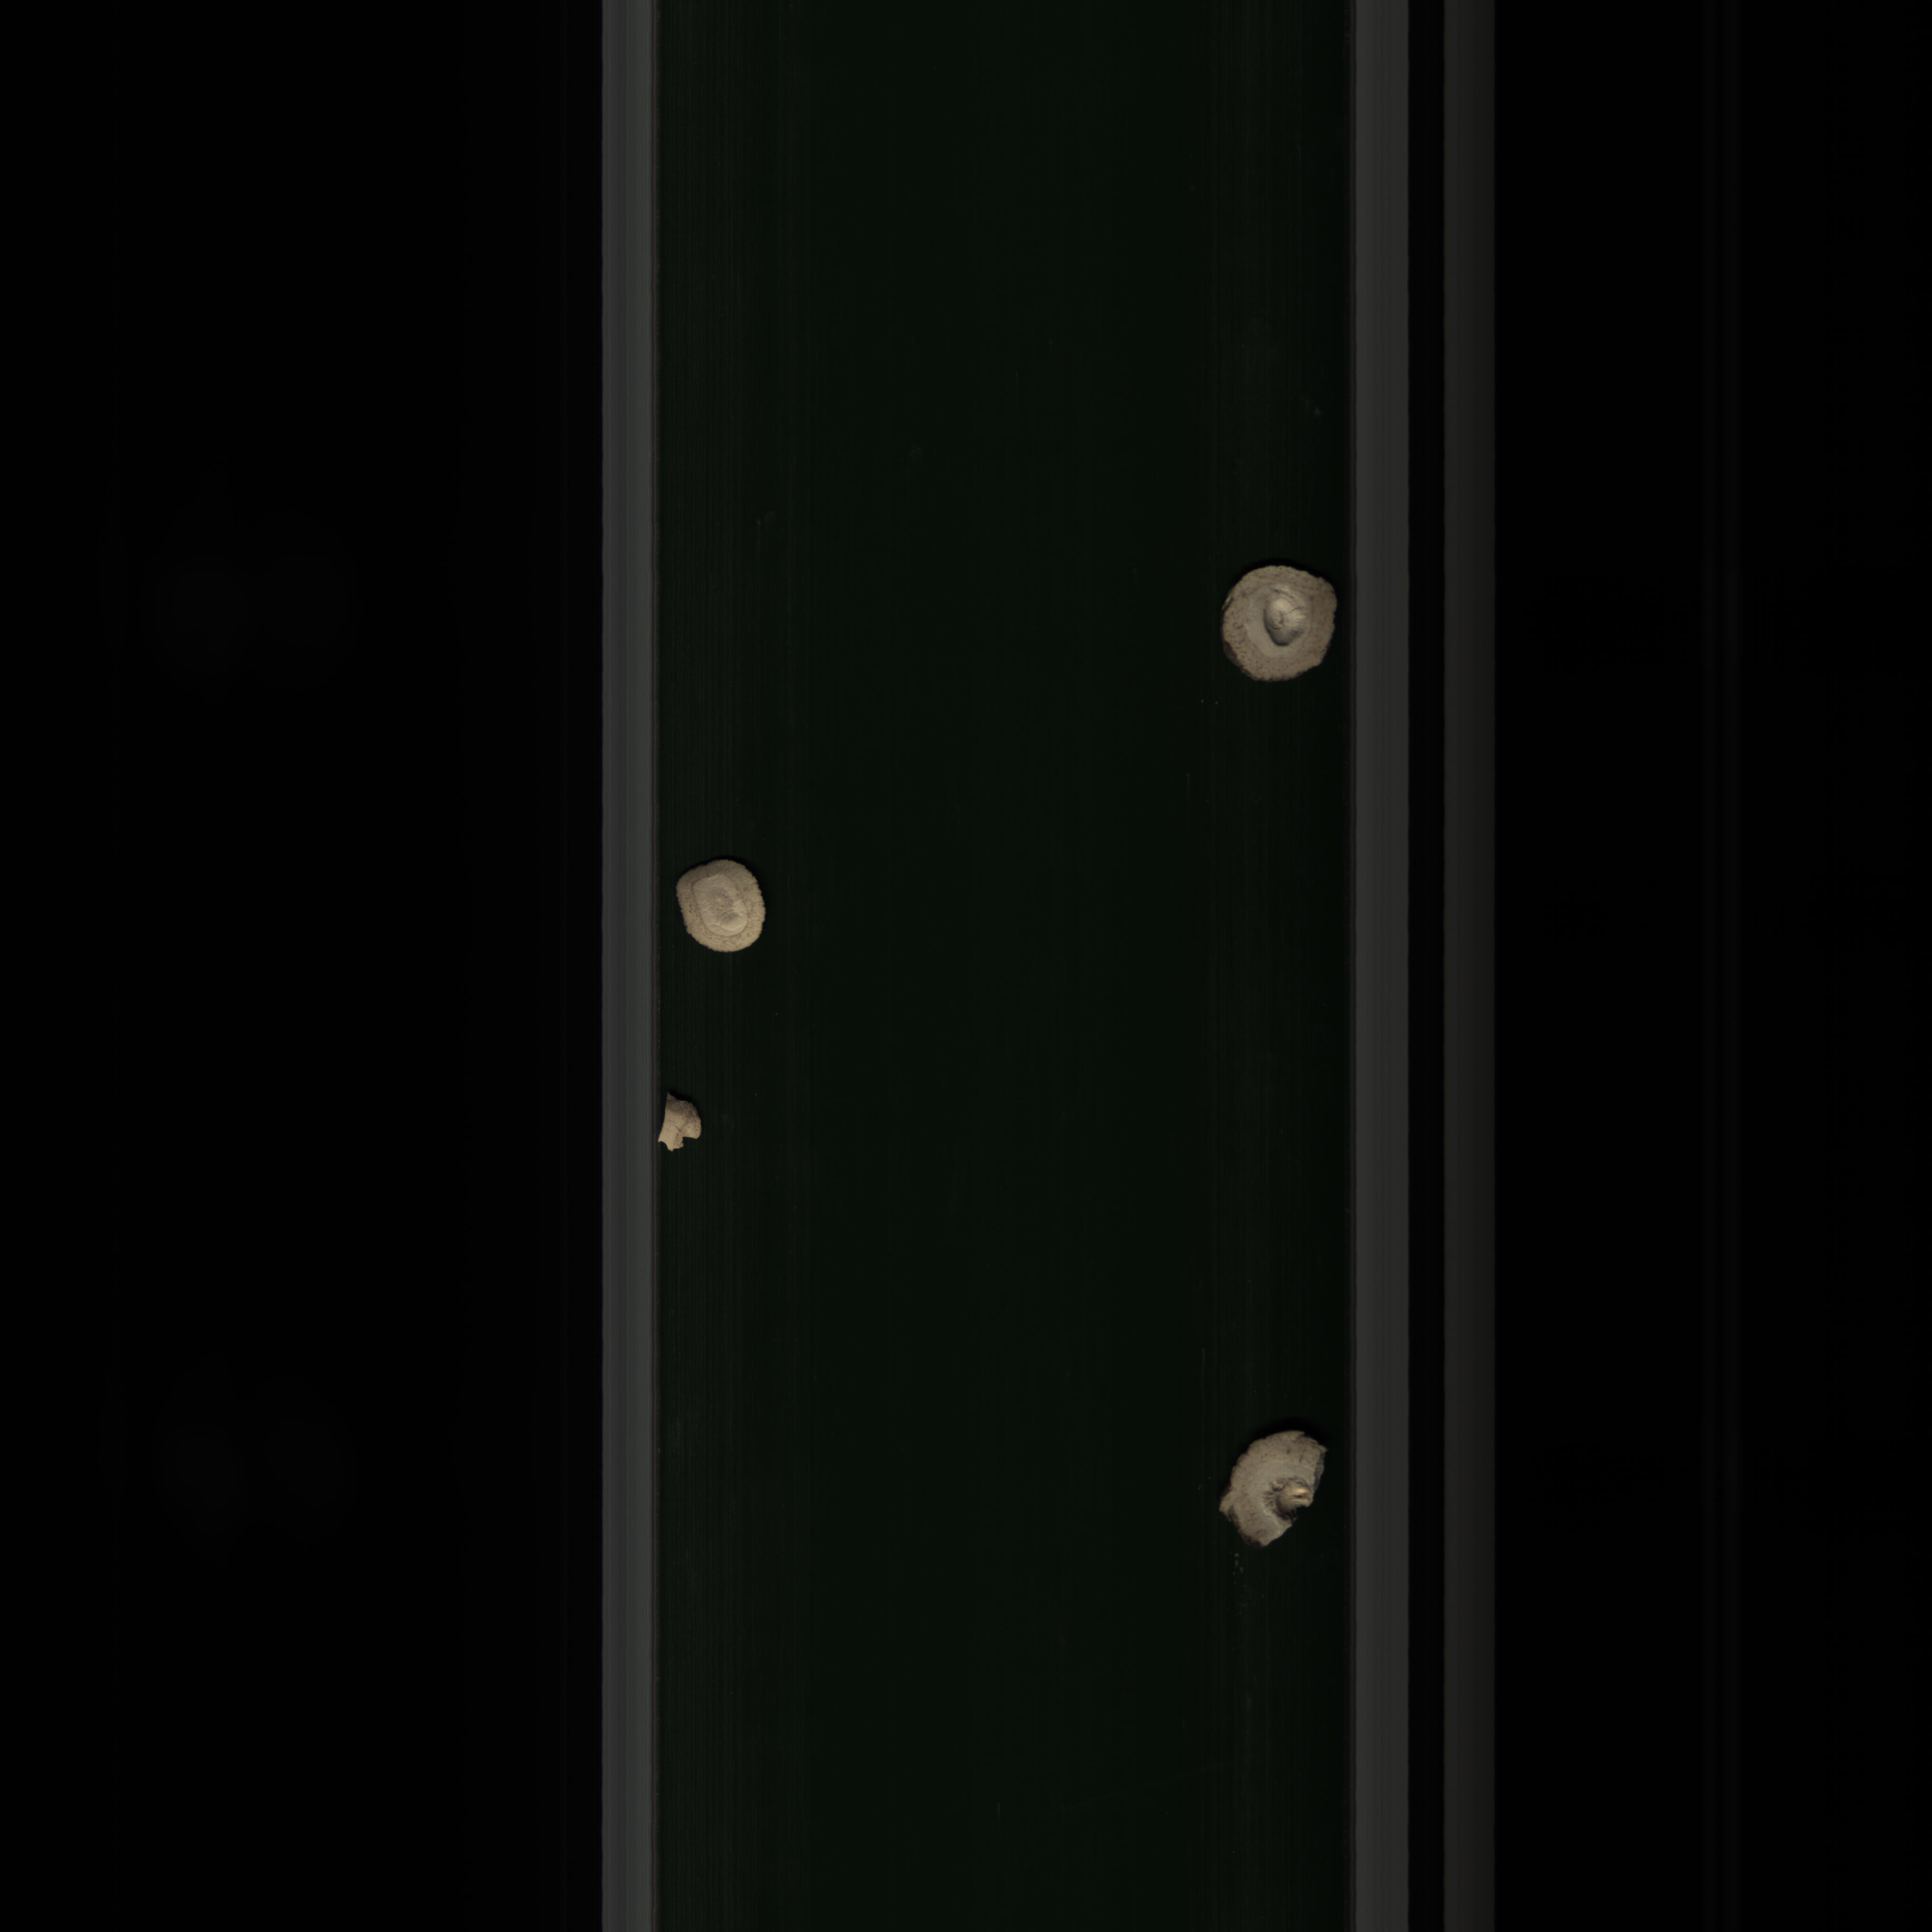bark: (648, 1081, 717, 1164)
debris: (1201, 1398, 1330, 1573)
